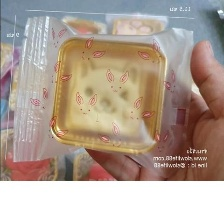snack: (7, 8, 204, 181)
